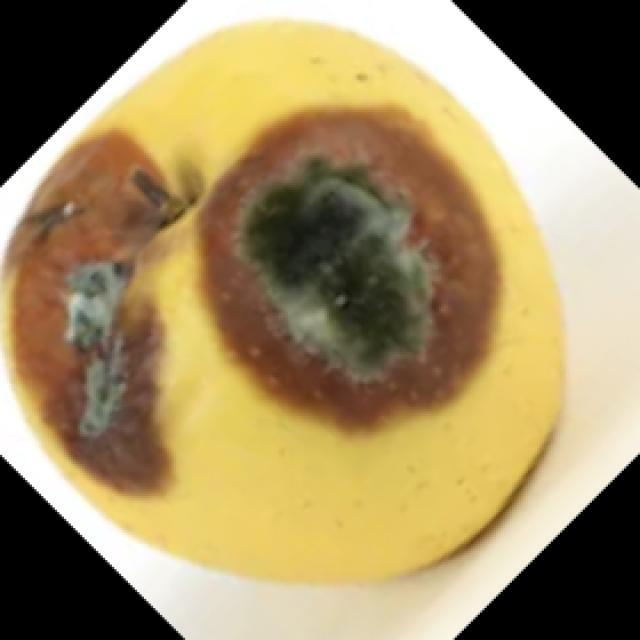Rotten: (27, 25, 558, 558)
